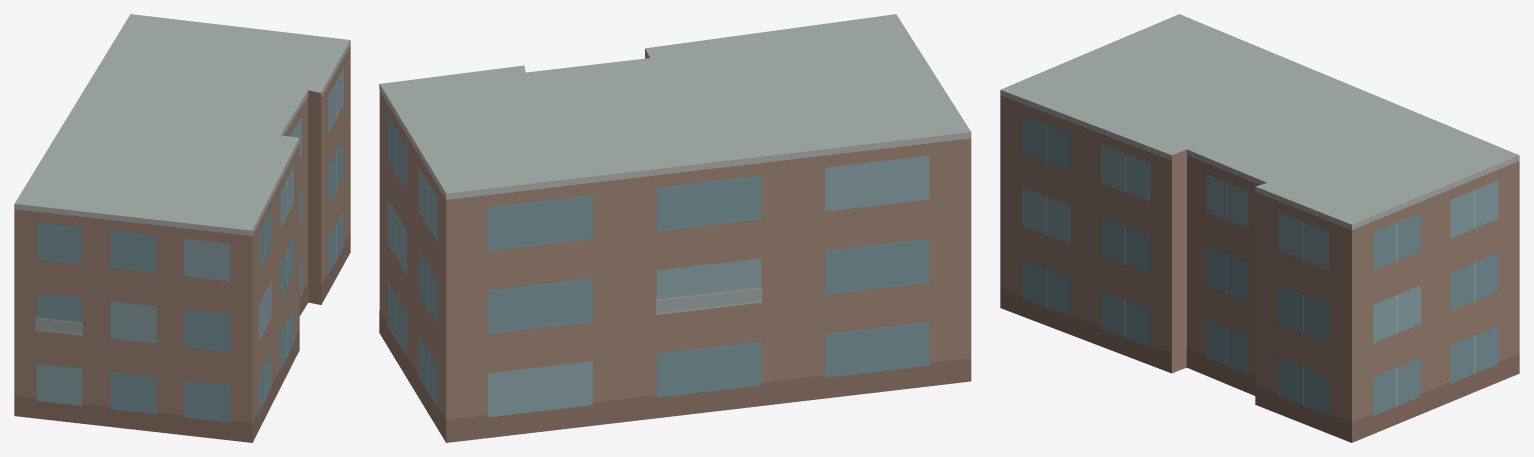
The model's file is survey-upis-32512938.glb.
3 views of the same model, side by side, from view 1: azimuth 30°, elevation 25°; view 2: azimuth 150°, elevation 25°; view 3: azimuth 270°, elevation 25° (orthographic). The views are drawn at different scales.
Parts seen in each view (by area): view 1: survey-upis-32512938.tmp; view 2: survey-upis-32512938.tmp; view 3: survey-upis-32512938.tmp.
Boxes of the visible parts, x1,y1,x2,y2 form: survey-upis-32512938.tmp: (14, 14, 350, 442); survey-upis-32512938.tmp: (379, 14, 971, 442); survey-upis-32512938.tmp: (1000, 14, 1519, 442).
Size of the model in its own units: 20.06 by 9.68 by 20.89.
